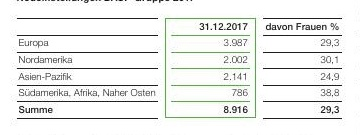table: (0, 0, 360, 135)
